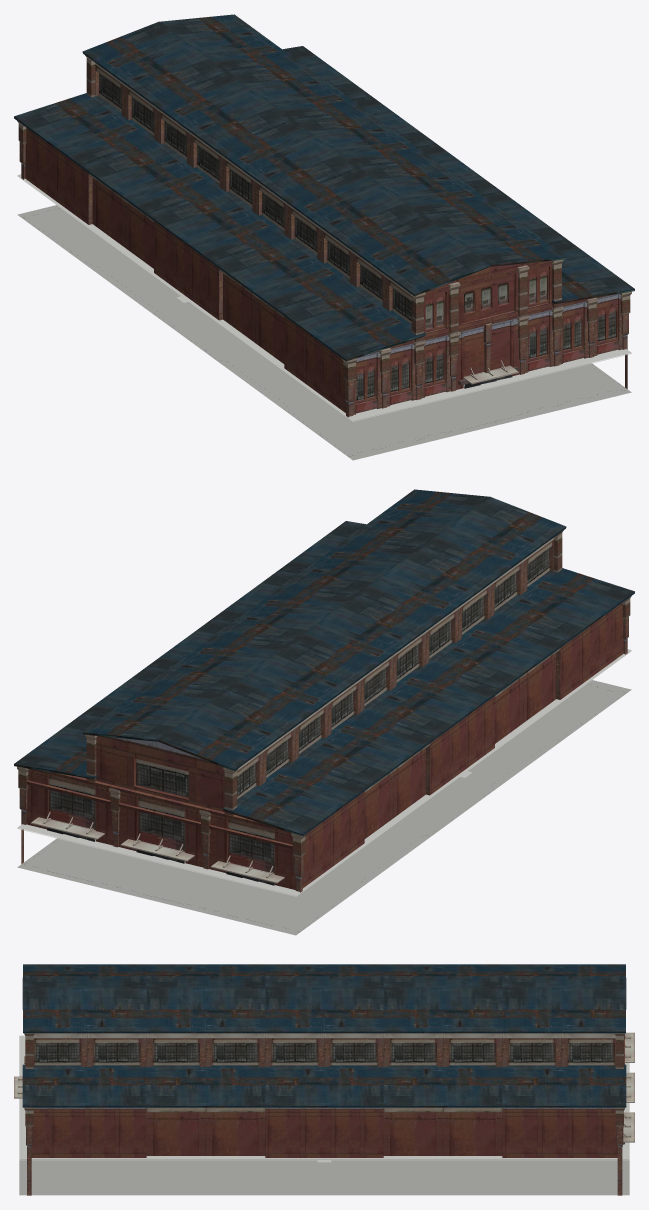
File: ind-factory.zfix-v14.lod1.glb
3 renders of one model, top to bottom at view 1: azimuth 30°, elevation 25°; view 2: azimuth 150°, elevation 25°; view 3: azimuth 270°, elevation 25°, orthographic. The views are drawn at different scales.
Parts seen in each view (by area): view 1: Industrial_FactoryPlant_1_Industrial_Walls_FLR_2_0, Industrial_FactoryPlant_1_Industrial_Facade_Flr_1_0, Walkable floors and stairs (×2); view 2: Industrial_FactoryPlant_1_Industrial_Walls_FLR_2_0, Industrial_FactoryPlant_1_Industrial_Facade_Flr_1_0, Walkable floors and stairs (×2); view 3: Industrial_FactoryPlant_1_Industrial_Walls_FLR_2_0, Industrial_FactoryPlant_1_Industrial_Facade_Flr_1_0, Walkable floors and stairs (×2).
Part boxes in pixels (left/top/right/bottom): Industrial_FactoryPlant_1_Industrial_Walls_FLR_2_0: left=14, top=14, right=634, bottom=421; Industrial_FactoryPlant_1_Industrial_Facade_Flr_1_0: left=17, top=55, right=631, bottom=456; Walkable floors and stairs (×2): left=17, top=174, right=631, bottom=460; Industrial_FactoryPlant_1_Industrial_Walls_FLR_2_0: left=14, top=489, right=634, bottom=885; Industrial_FactoryPlant_1_Industrial_Facade_Flr_1_0: left=17, top=530, right=631, bottom=931; Walkable floors and stairs (×2): left=17, top=649, right=631, bottom=935; Industrial_FactoryPlant_1_Industrial_Walls_FLR_2_0: left=22, top=964, right=626, bottom=1146; Industrial_FactoryPlant_1_Industrial_Facade_Flr_1_0: left=14, top=1032, right=634, bottom=1195; Walkable floors and stairs (×2): left=19, top=1035, right=629, bottom=1195.
Bounding box in the file's own units: 46.53 × 24.73 × 95.3.
Materials: 4 (2 with a texture image).
